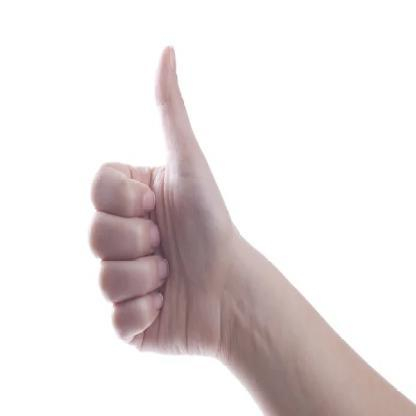thumb_up: (87, 42, 231, 360)
